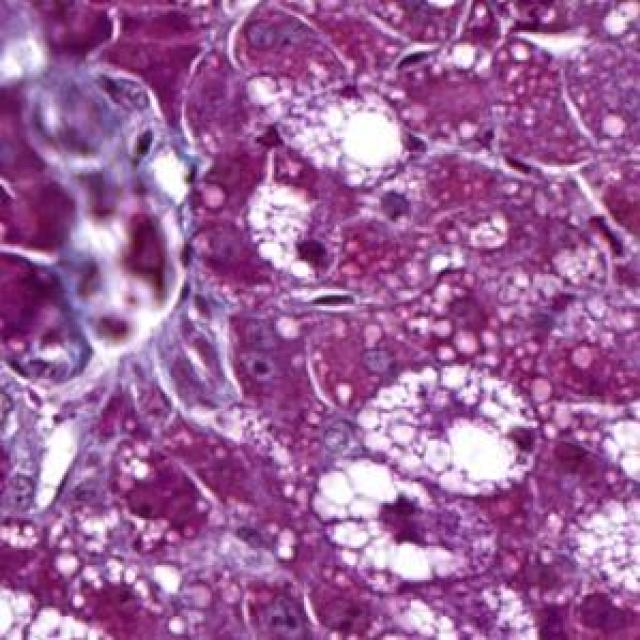ballooning: (351, 357, 546, 501), (308, 454, 503, 597), (257, 75, 417, 195), (231, 178, 338, 302)
